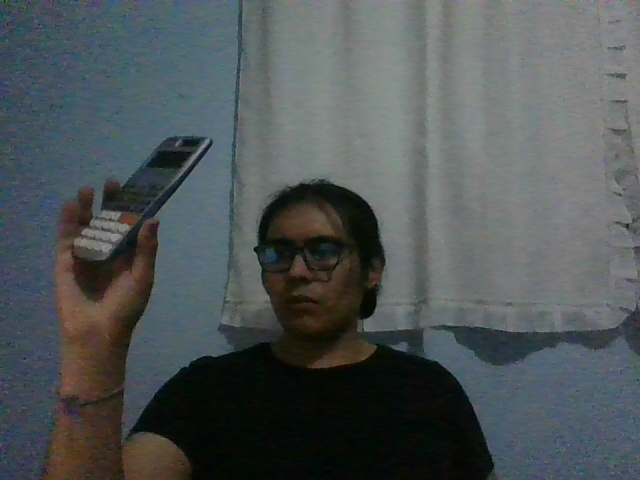calculadora: (70, 136, 212, 264)
